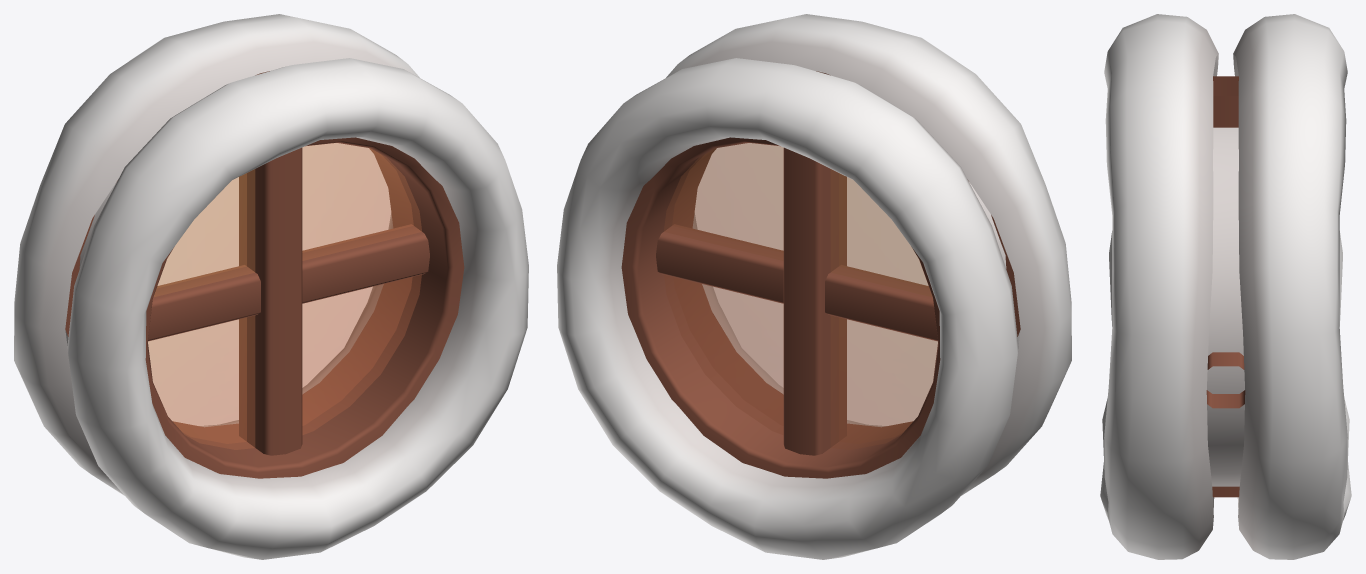
The model's file is Window_002.fbx.
3 views of the same model, side by side, from view 1: azimuth 30°, elevation 25°; view 2: azimuth 150°, elevation 25°; view 3: azimuth 270°, elevation 25° (orthographic). The views are drawn at different scales.
Visible parts, largest first — view 1: Window_002; view 2: Window_002; view 3: Window_002.
Boxes of the visible parts, x1,y1,x2,y2 form: Window_002: (14,14,528,559); Window_002: (557,14,1071,559); Window_002: (1100,14,1351,559).
Size of the model in its own units: 1.63 by 1.68 by 0.7798.
